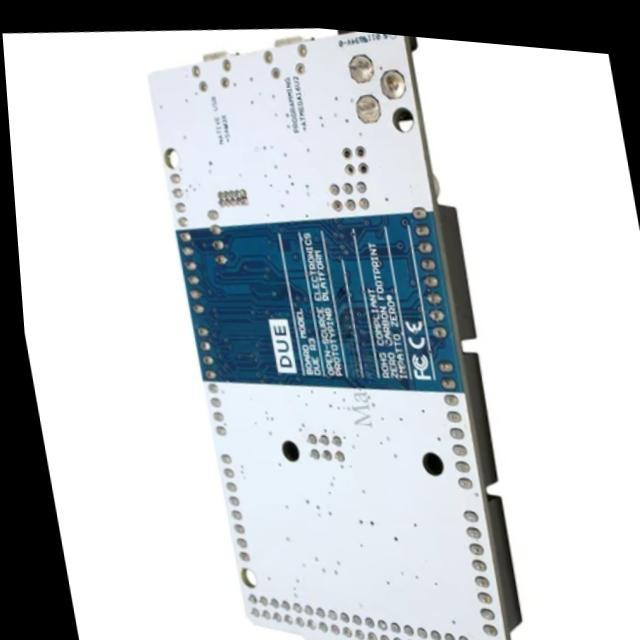Arduino-Due: (150, 34, 508, 640)
